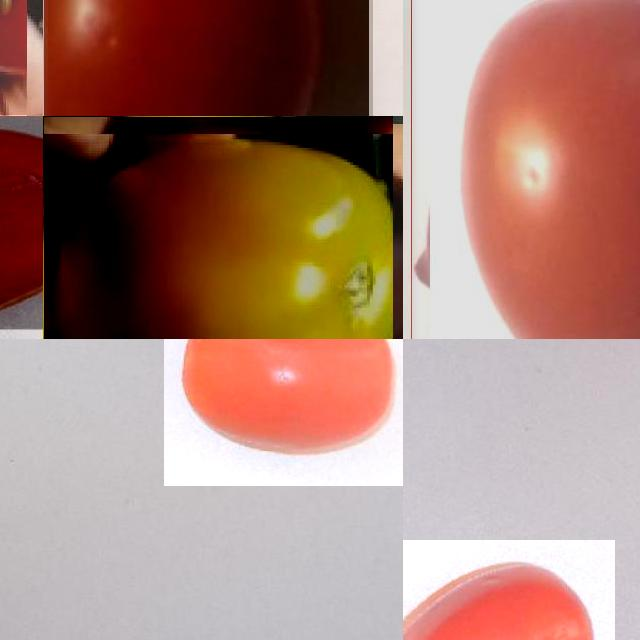0: (411, 0, 640, 339), (43, 0, 373, 116)
1: (43, 116, 393, 339), (0, 116, 43, 329)
Fresh Tomato: (164, 339, 403, 486), (403, 540, 615, 640)
